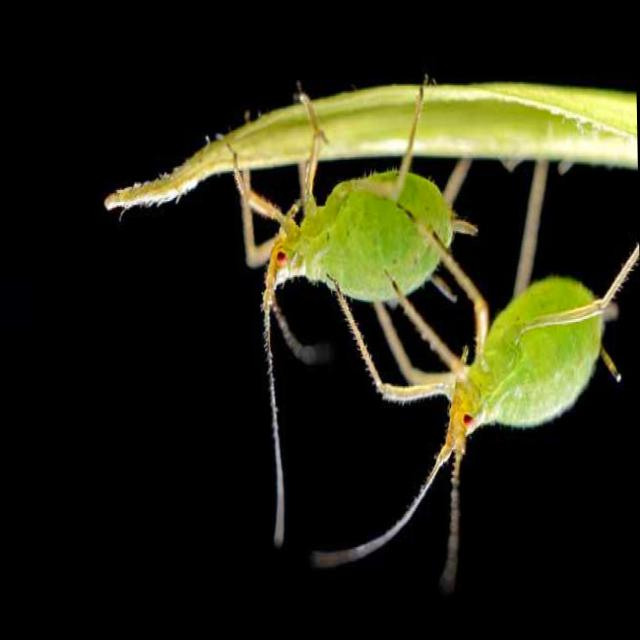Aphids: (308, 231, 626, 570), (197, 128, 470, 352)
